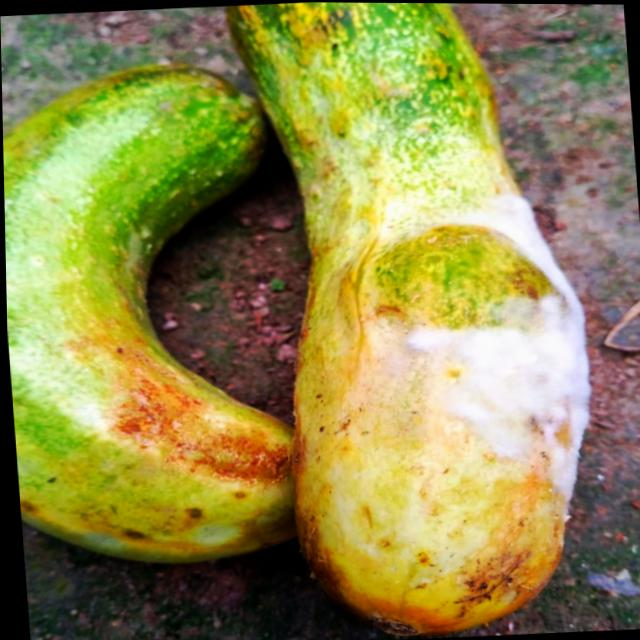Pythium-Fruit-Rot: (393, 182, 603, 506)
